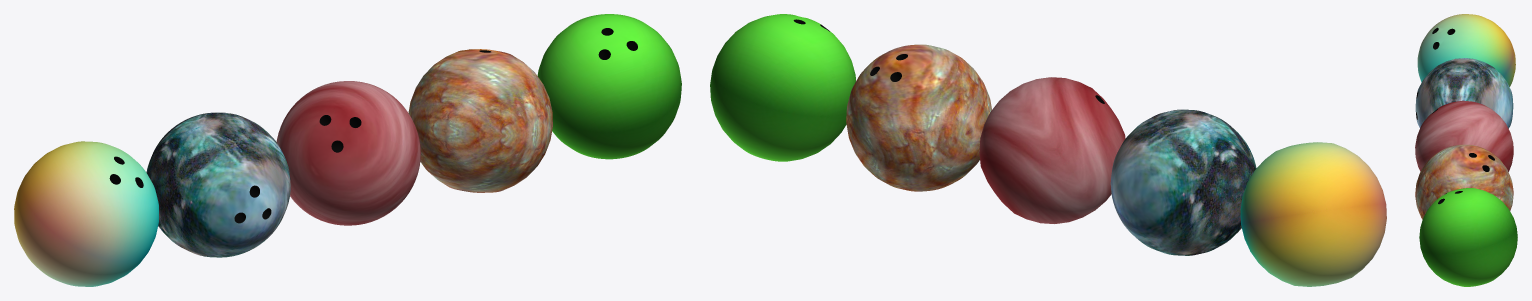
The picture shows the model from 3 angles, left to right: view 1: azimuth 30°, elevation 25°; view 2: azimuth 150°, elevation 25°; view 3: azimuth 270°, elevation 25°; orthographic projection. The views are drawn at different scales.
Visible parts, largest first — view 1: Ball1_01 - Default_0, Ball4_01 - Default_0, Ball3, Ball2_01 - Default_0, Ball5_01 - Default_0; view 2: Ball1_01 - Default_0, Ball5_01 - Default_0, Ball4_01 - Default_0, Ball3, Ball2_01 - Default_0; view 3: Ball5_01 - Default_0, Ball3, Ball1_01 - Default_0, Ball4_01 - Default_0, Ball2_01 - Default_0, Ball1_02 - Default_0, Ball4_02 - Default_0.
Part boxes in pixels (x1,y1,x2,y2): Ball1_01 - Default_0: [14, 141, 158, 286]; Ball4_01 - Default_0: [408, 49, 552, 192]; Ball3: [276, 81, 420, 225]; Ball2_01 - Default_0: [146, 112, 290, 257]; Ball5_01 - Default_0: [537, 14, 681, 159]; Ball1_01 - Default_0: [1240, 142, 1386, 286]; Ball5_01 - Default_0: [710, 14, 855, 161]; Ball4_01 - Default_0: [846, 44, 991, 191]; Ball3: [979, 77, 1125, 223]; Ball2_01 - Default_0: [1110, 109, 1256, 255]; Ball5_01 - Default_0: [1419, 188, 1517, 286]; Ball3: [1415, 100, 1513, 171]; Ball1_01 - Default_0: [1417, 14, 1515, 86]; Ball4_01 - Default_0: [1415, 144, 1513, 219]; Ball2_01 - Default_0: [1415, 58, 1513, 128]; Ball1_02 - Default_0: [1432, 27, 1455, 49]; Ball4_02 - Default_0: [1469, 153, 1494, 171].
Size of the model in its own units: 366 by 71.8 by 73.97.
Materials: 2 (2 with a texture image).
